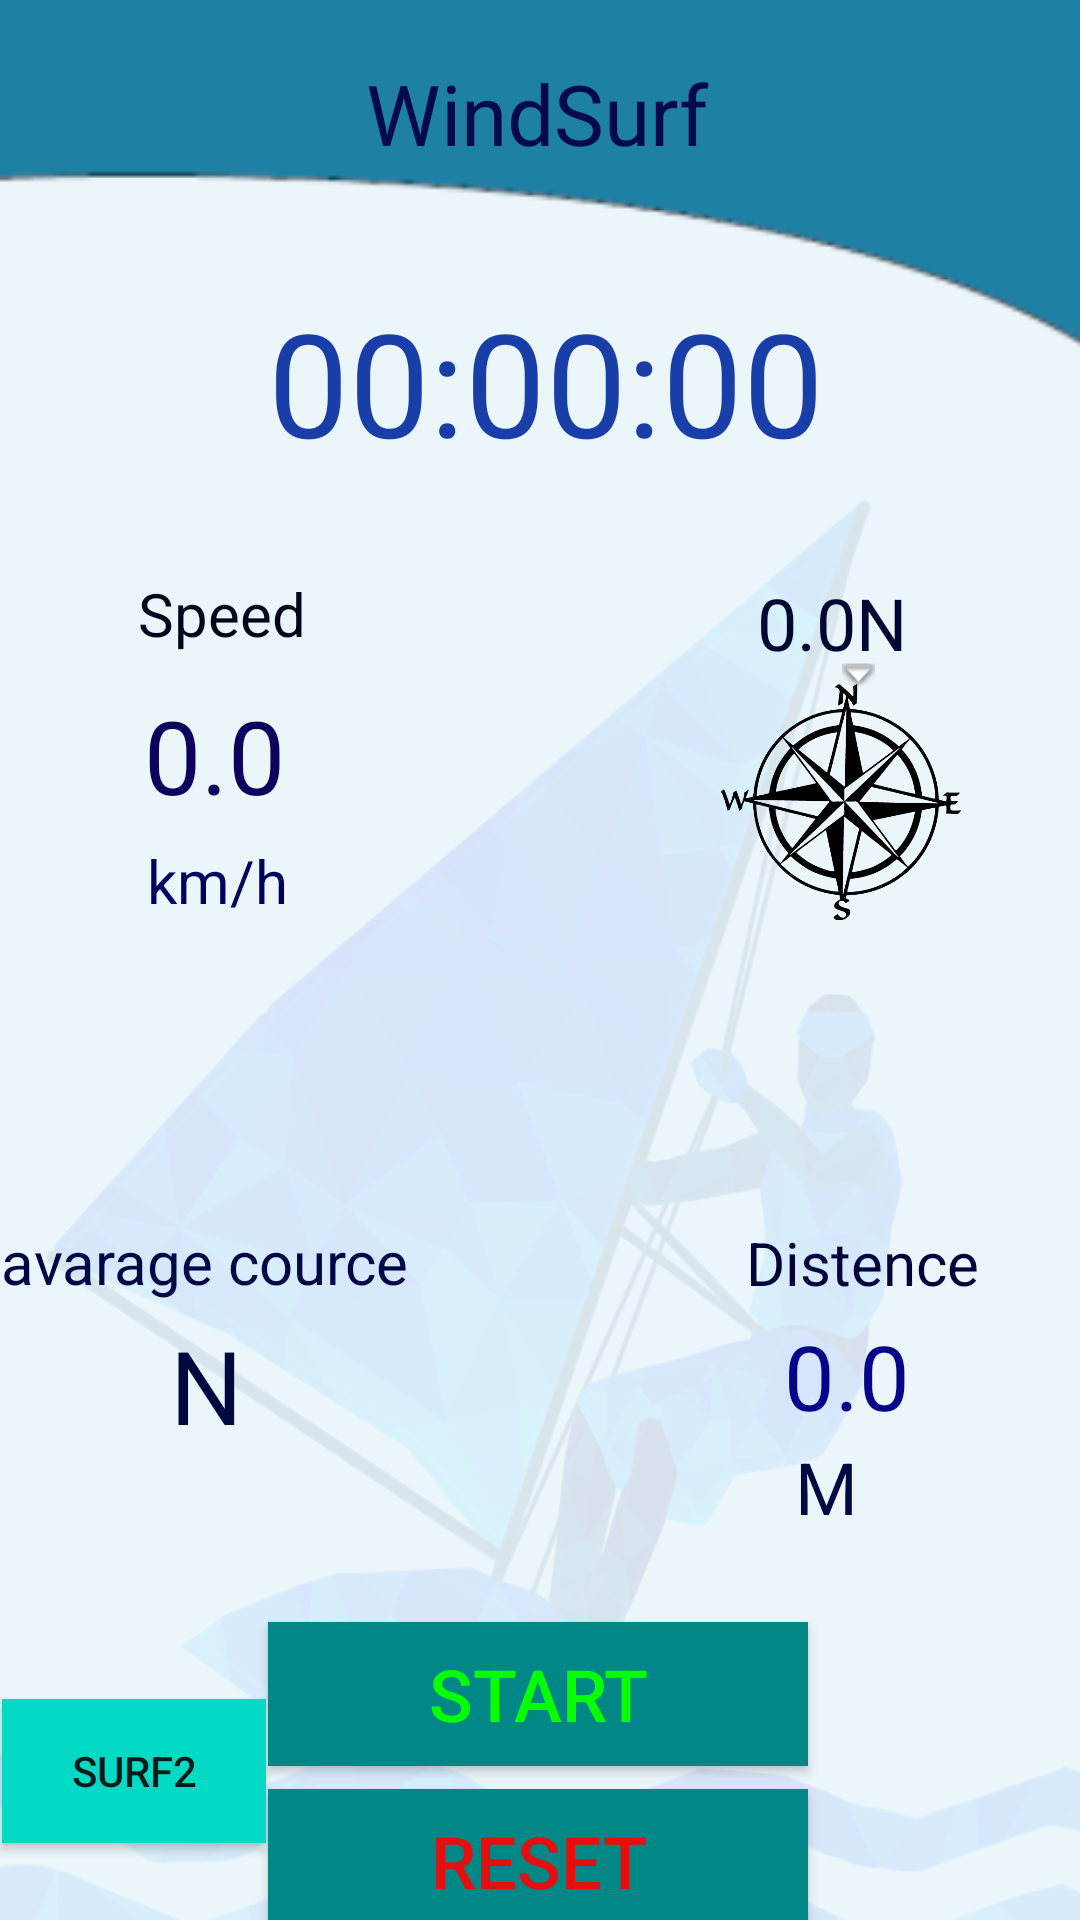

Icons on this 1080×1920 Android screen, each with the point to tap as (x,y):
arrow down float: (858,674)
compassim: (841,801)
